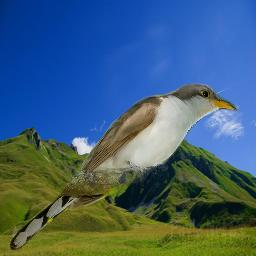Cuckoo: (5, 81, 242, 252)
